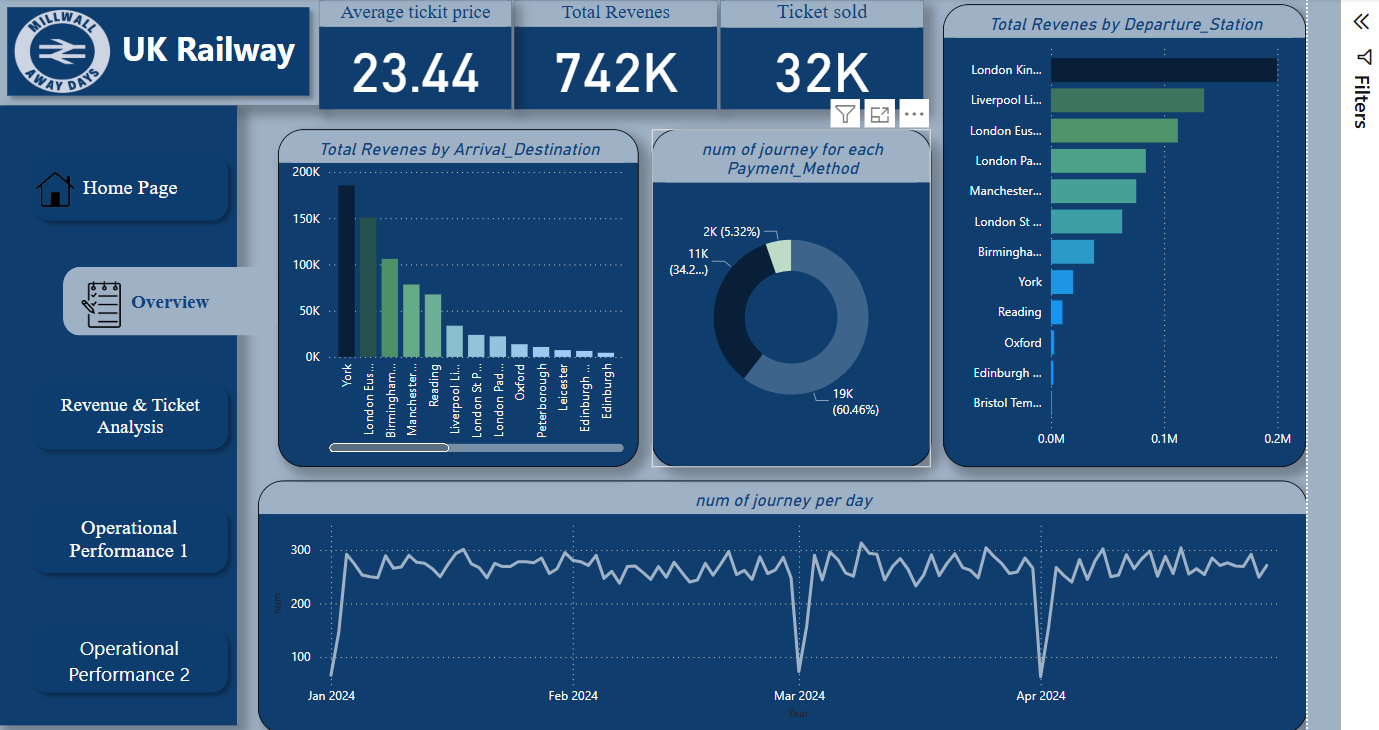

Layout of this report page (visuals, bound fields, positions):
{"tool":"powerbi","page":{"name":"Overview","canvas":[1280,720],"ordinal":1},"visuals":[{"type":"shape","box":[0,0,313.7,104.6],"z":0},{"type":"textbox","box":[116.6,22.1,252.8,66.3],"z":1000},{"type":"shape","box":[0,104.6,234.1,606.5],"z":1000,"group":"g3"},{"type":"card","title":"Total Revenes","fields":{"Values":["Sum(clean_railway.Price)"]},"box":[504.9,2.5,198.7,106.1],"z":2000},{"type":"clusteredBarChart","title":"Total Revenes by Departure_Station","fields":{"Category":["clean_railway.Departure_Station"],"Y":["Sum(clean_railway.Price)"]},"box":[924.6,6,355.5,452.6],"z":3000},{"type":"image","box":[9,0,109,107.6],"z":4000},{"type":"shape","box":[63.7,262.9,209.6,67.5],"z":4000,"group":"g3"},{"type":"card","title":"Ticket sold","fields":{"Values":["Table.num"]},"box":[706.6,2.5,198.7,106.1],"z":5000},{"type":"shape","box":[24,367.5,209.6,82.3],"z":5000,"group":"g3"},{"type":"card","title":"Average tickit price","fields":{"Values":["Avg(clean_railway.Price)"]},"box":[313.7,2.5,188.2,106.1],"z":6000},{"type":"lineChart","title":"num of journey per day","fields":{"Y":["Table.num"],"Category":["clean_railway.Date_of_Journey.Variation.Date Hierarchy.Year","clean_railway.Date_of_Journey.Variation.Date Hierarchy.Month","clean_railway.Date_of_Journey.Variation.Date Hierarchy.Day"]},"box":[253.9,472,1026.2,248],"z":7000},{"type":"shape","box":[23.6,486.8,210.4,83.6],"z":7000,"group":"g3"},{"type":"clusteredColumnChart","title":"Total Revenes by Arrival_Destination","fields":{"Category":["clean_railway.Arrival_Destination"],"Y":["Sum(clean_railway.Price)"]},"box":[273.4,128.5,352.5,330.1],"z":8000},{"type":"donutChart","title":"num of journey for each Payment_Method","fields":{"Y":["Table.num"],"Category":["clean_railway.Payment_Method"]},"box":[639.3,128.5,273.4,330.1],"z":9000},{"type":"group","id":"g1","title":"Group 3","box":[0,104.6,273.4,606.5],"z":10000},{"type":"shape","box":[23.6,607.5,210.4,80.6],"z":11000},{"type":"shape","box":[24,143.6,209.6,82.3],"z":16000,"group":"g3"},{"type":"group","id":"g2","title":"Group 1","box":[0,104.6,273.4,606.5],"z":17001,"group":"g1"},{"type":"group","id":"g3","title":"Group 2","box":[0,104.6,273.4,606.5],"z":17002,"group":"g2"},{"type":"image","box":[73.2,270.4,55.3,56.8],"z":17251,"group":"g1"},{"type":"image","box":[24.5,160.7,66.2,52.8],"z":17501,"group":"g1"}]}

Visuals, with their boxes on the page's 1280x720 design canvas (x1, y1, x2, y2). These are canvas units, not pixel positions in the 1379x730 screenshot, which may show the page scaled, cropped or inside an application window:
shape: bbox=(0, 0, 314, 105)
textbox: bbox=(117, 22, 369, 88)
shape: bbox=(0, 105, 234, 711)
"Total Revenes" card: bbox=(505, 2, 704, 109)
"Total Revenes by Departure_Station" clusteredBarChart: bbox=(925, 6, 1280, 459)
image: bbox=(9, 0, 118, 108)
shape: bbox=(64, 263, 273, 330)
"Ticket sold" card: bbox=(707, 2, 905, 109)
shape: bbox=(24, 368, 234, 450)
"Average tickit price" card: bbox=(314, 2, 502, 109)
"num of journey per day" lineChart: bbox=(254, 472, 1280, 720)
shape: bbox=(24, 487, 234, 570)
"Total Revenes by Arrival_Destination" clusteredColumnChart: bbox=(273, 128, 626, 459)
"num of journey for each Payment_Method" donutChart: bbox=(639, 128, 913, 459)
"Group 3" group: bbox=(0, 105, 273, 711)
shape: bbox=(24, 608, 234, 688)
shape: bbox=(24, 144, 234, 226)
"Group 1" group: bbox=(0, 105, 273, 711)
"Group 2" group: bbox=(0, 105, 273, 711)
image: bbox=(73, 270, 128, 327)
image: bbox=(24, 161, 91, 214)
